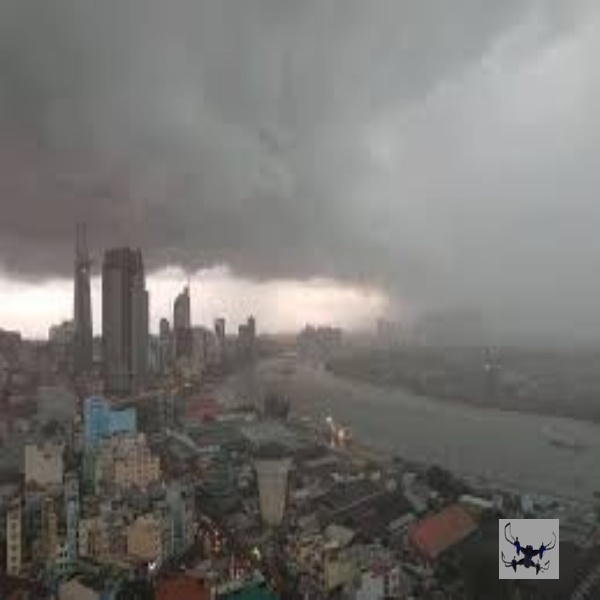drone: (498, 518, 561, 582)
